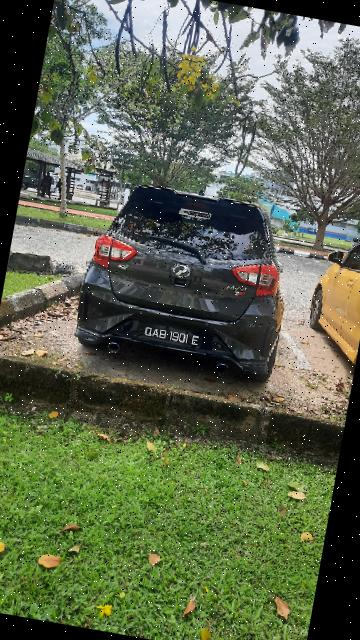License_Plate: (138, 318, 218, 354)
car: (66, 168, 308, 389)
